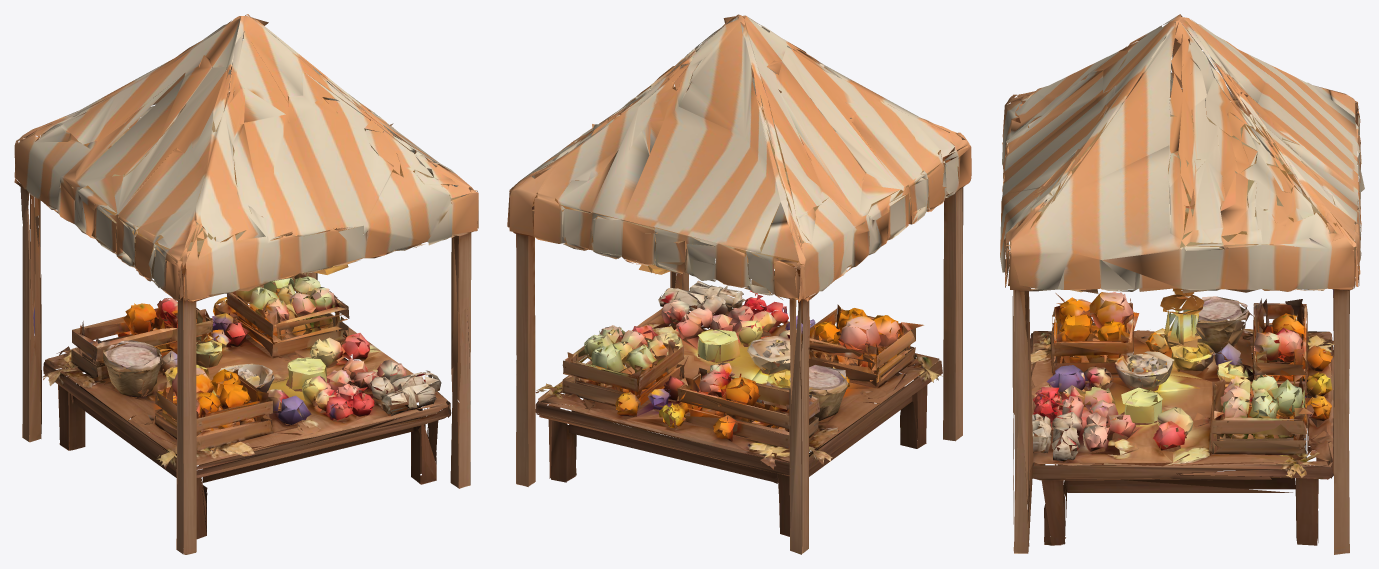
Rendered from kios-oranye.glb.
3 renders of one model, left to right at view 1: azimuth 30°, elevation 25°; view 2: azimuth 150°, elevation 25°; view 3: azimuth 270°, elevation 25°, orthographic. The views are drawn at different scales.
Visible parts, largest first — view 1: node_0; view 2: node_0; view 3: node_0.
Part boxes in pixels (x1=…): node_0: x1=14, y1=14, x2=478, y2=554; node_0: x1=507, y1=14, x2=971, y2=554; node_0: x1=1000, y1=14, x2=1364, y2=554.
Bounding box in the file's own units: 0.6307 × 0.8819 × 0.6262.
1 material, 1 textured.
